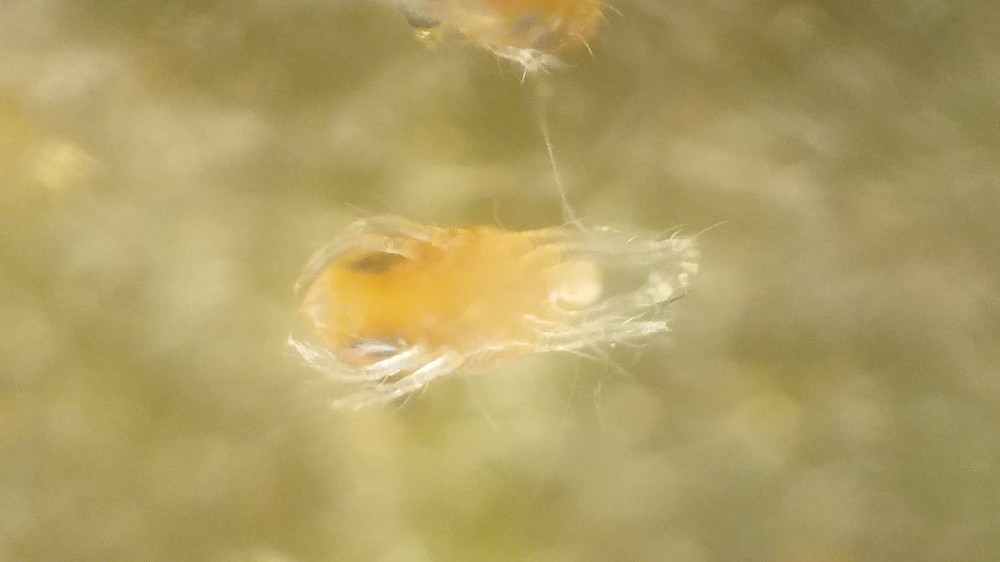Aracnido Rojo: (283, 186, 724, 417)
